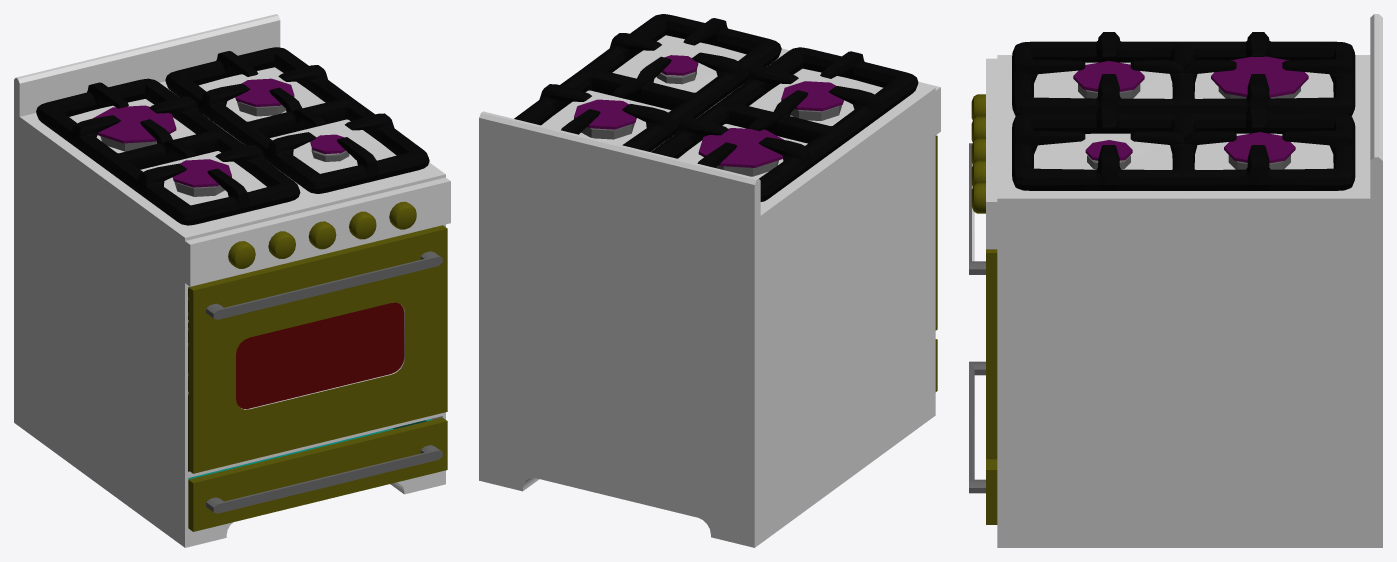
The model's file is oven.fbx.
The picture shows the model from 3 angles, left to right: view 1: azimuth 30°, elevation 25°; view 2: azimuth 150°, elevation 25°; view 3: azimuth 270°, elevation 25°; orthographic projection. The views are drawn at different scales.
Visible parts, largest first — view 1: Pec; view 2: Pec; view 3: Pec.
Boxes of the visible parts, box(x1,y1,x2,y2) form: Pec: box(14, 14, 450, 547); Pec: box(479, 14, 940, 547); Pec: box(969, 14, 1382, 547).
Size of the model in its own units: 88 by 112 by 107.
